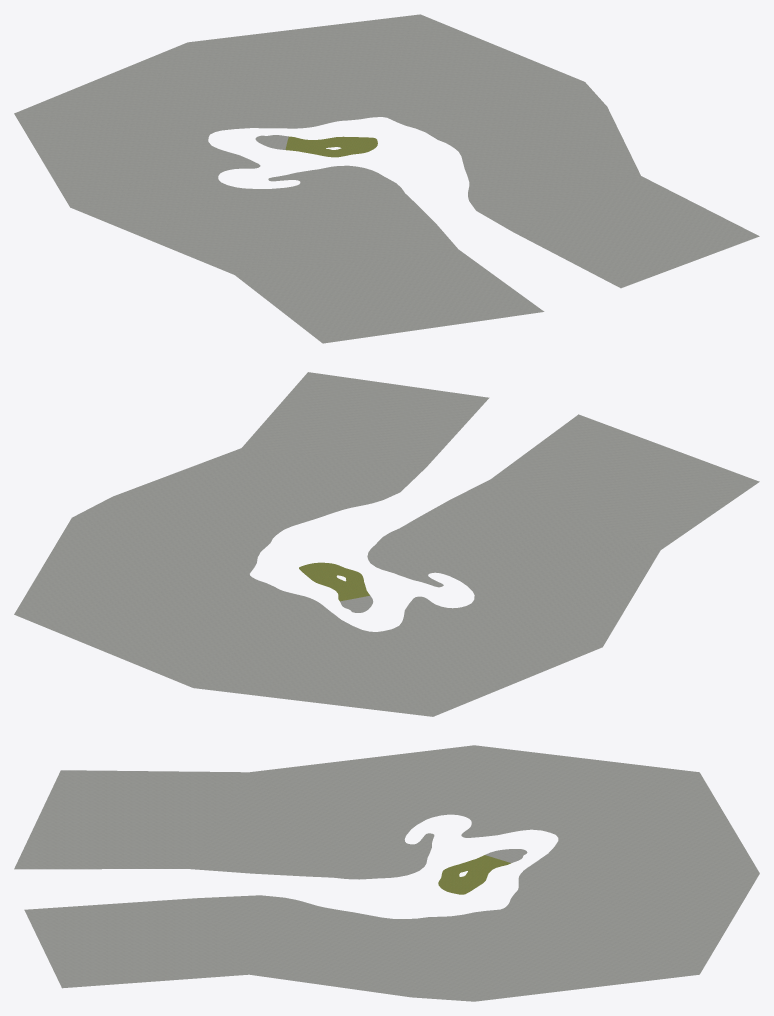
Rendered from Canad_track_field.dae.
3 renders of one model, top to bottom at view 1: azimuth 30°, elevation 25°; view 2: azimuth 150°, elevation 25°; view 3: azimuth 270°, elevation 25°, orthographic. The views are drawn at different scales.
Visible parts, largest first — view 1: field; view 2: field; view 3: field.
Boxes of the visible parts, left/top/right/bottom form: field: left=14, top=14, right=759, bottom=343; field: left=14, top=372, right=759, bottom=716; field: left=14, top=745, right=759, bottom=1001.
Size of the model in its own units: 138 by 170 by 0.
2 materials, 2 textured.
